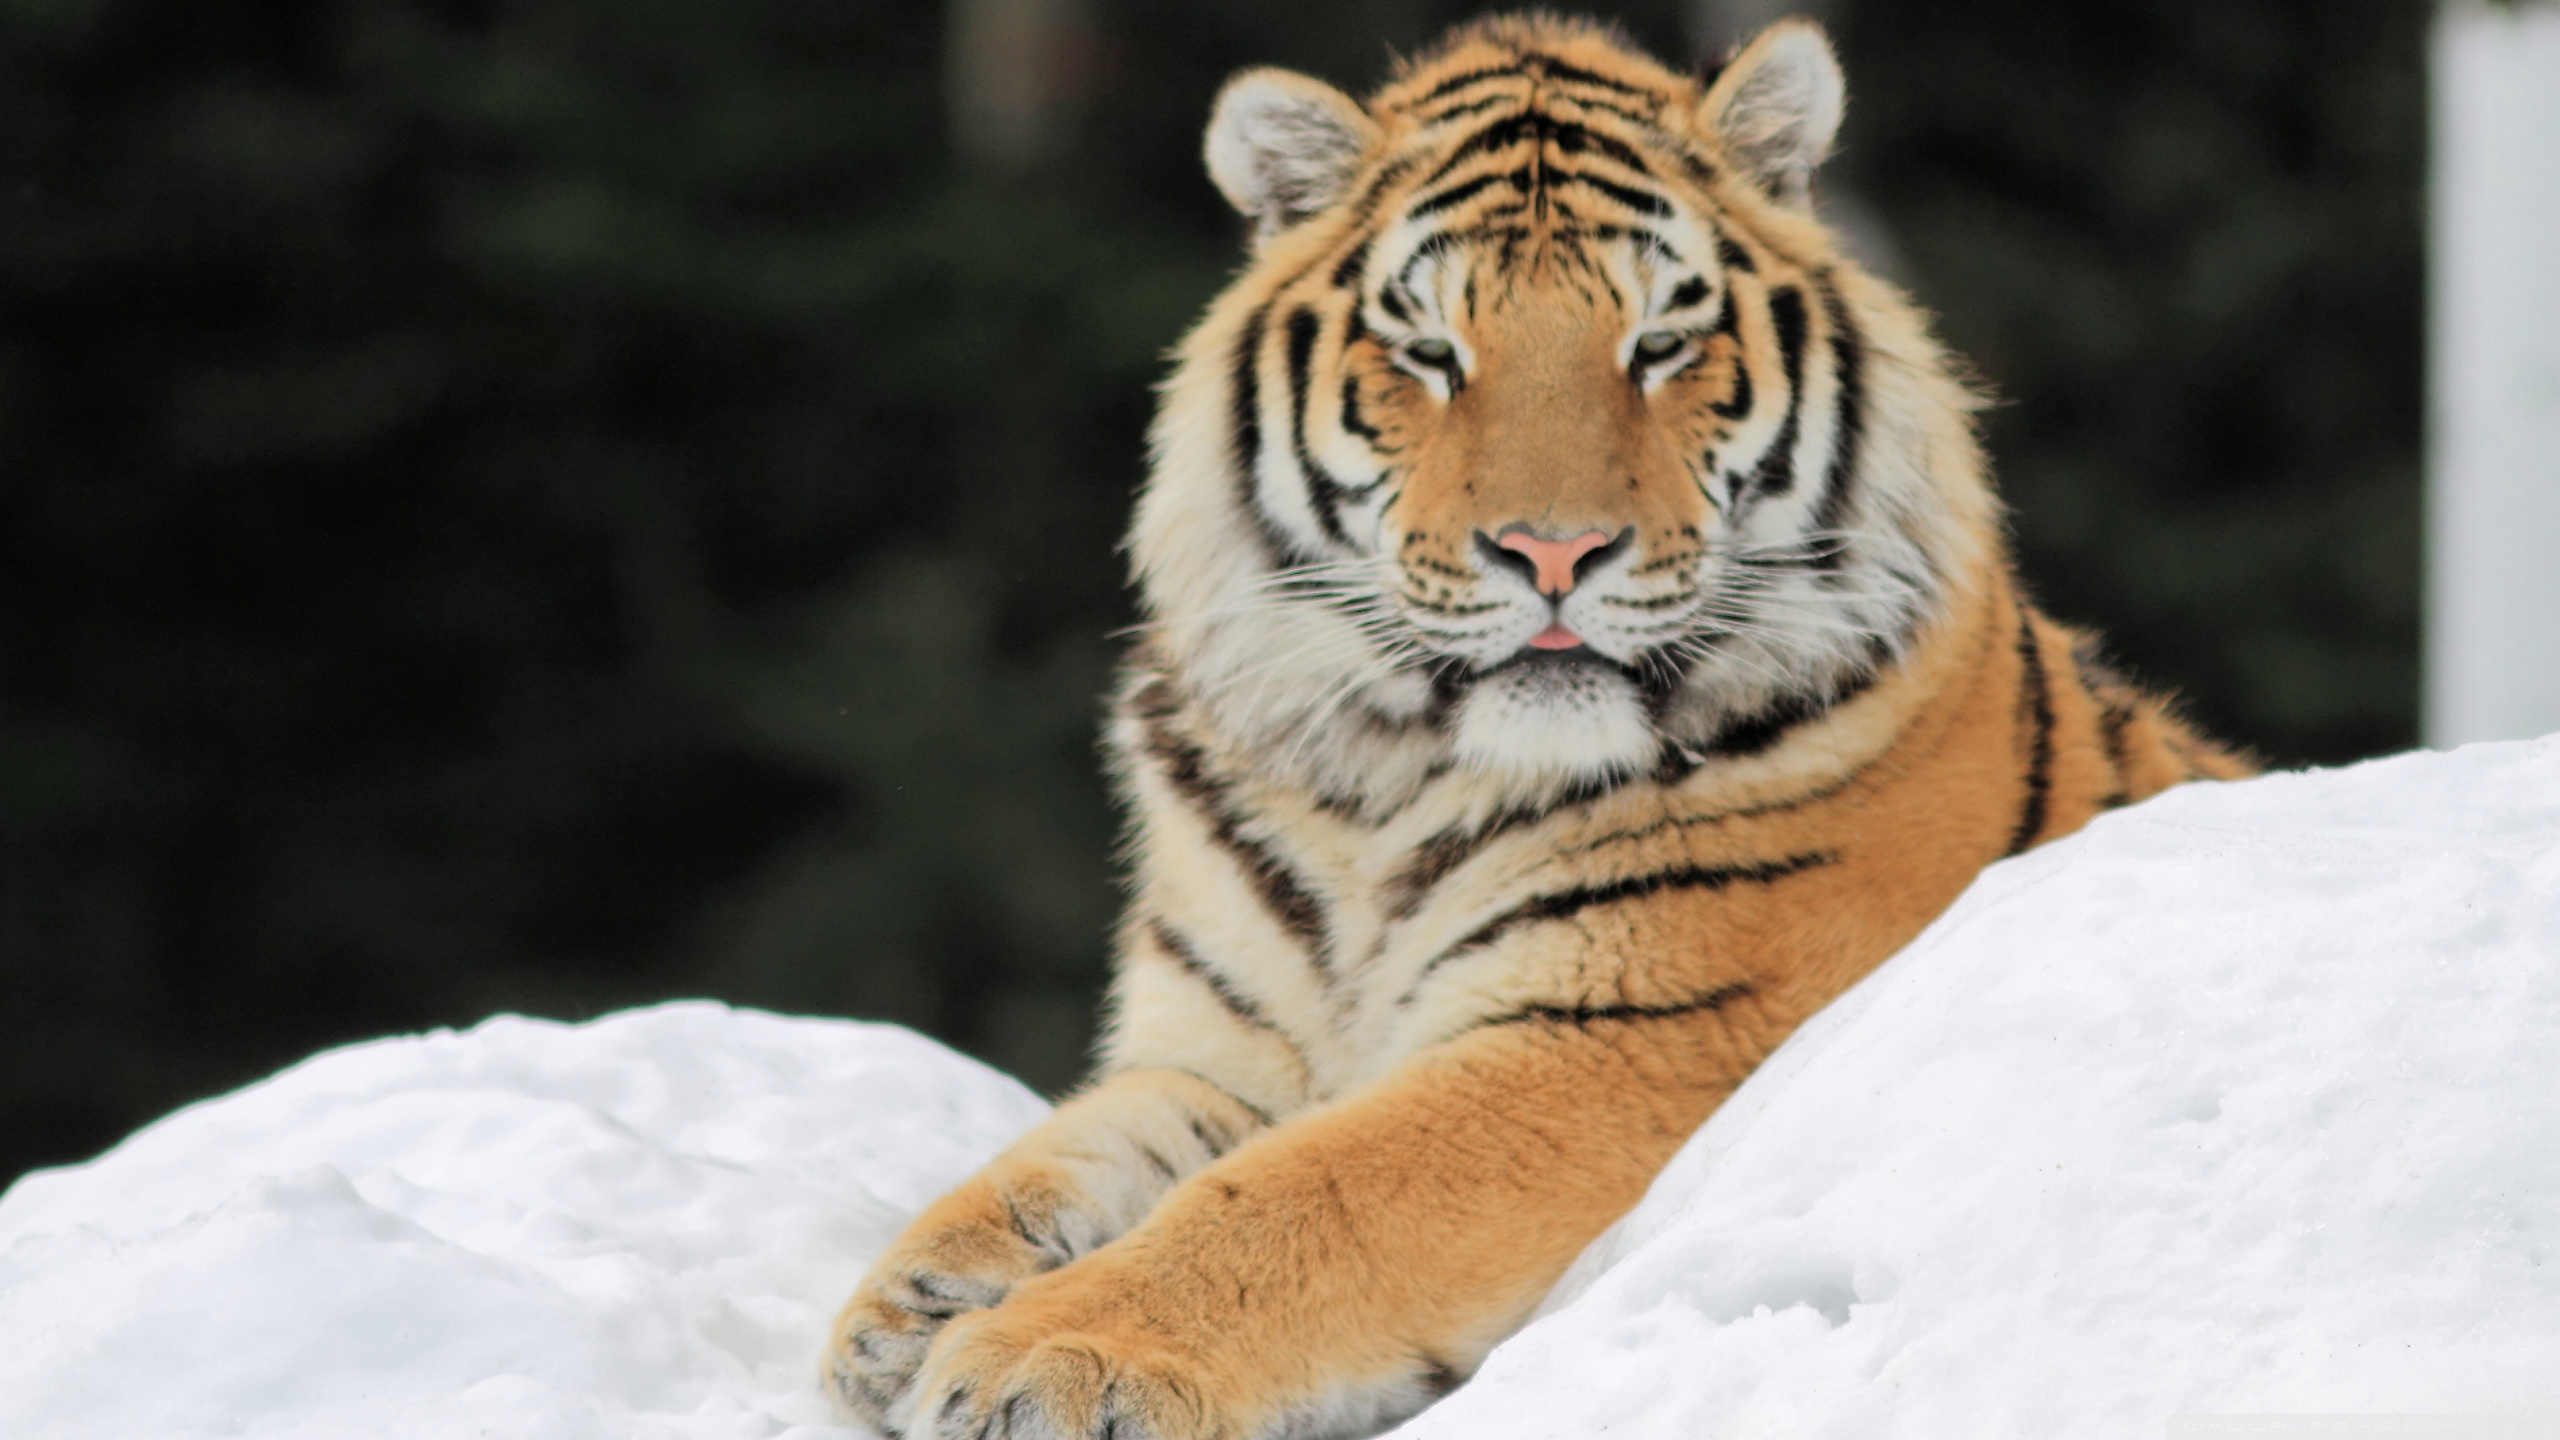tiger: (784, 49, 2251, 1431)
